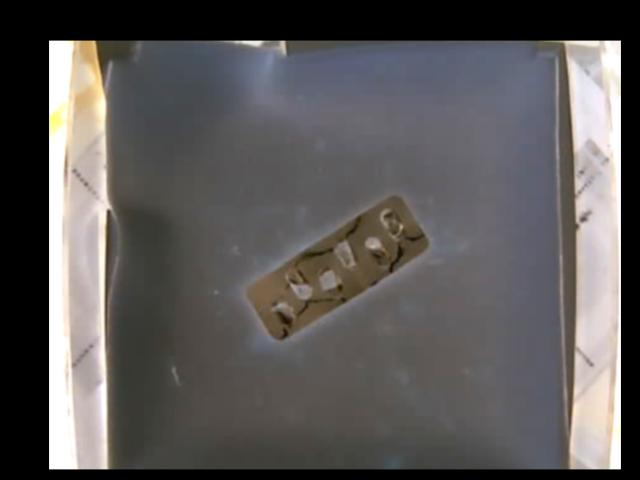Medicine: (246, 195, 427, 341)
